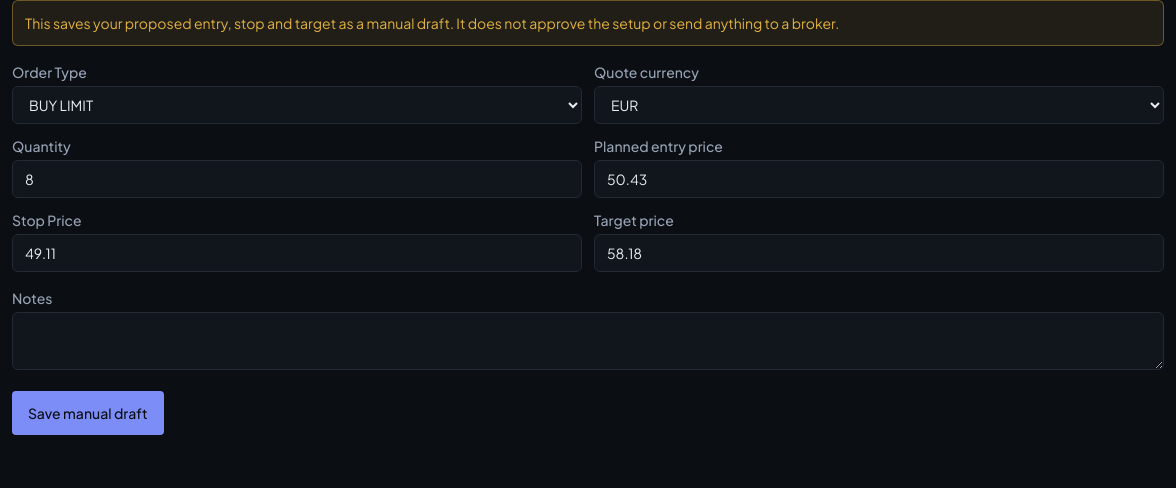
it: manual order drafts › saves the full plan as an unapproved draft and links to Book
The image size is (1176, 488).
Type "My manual plan" into the text box labelled "Notes" at (588, 341), box [12,312,1164,370]
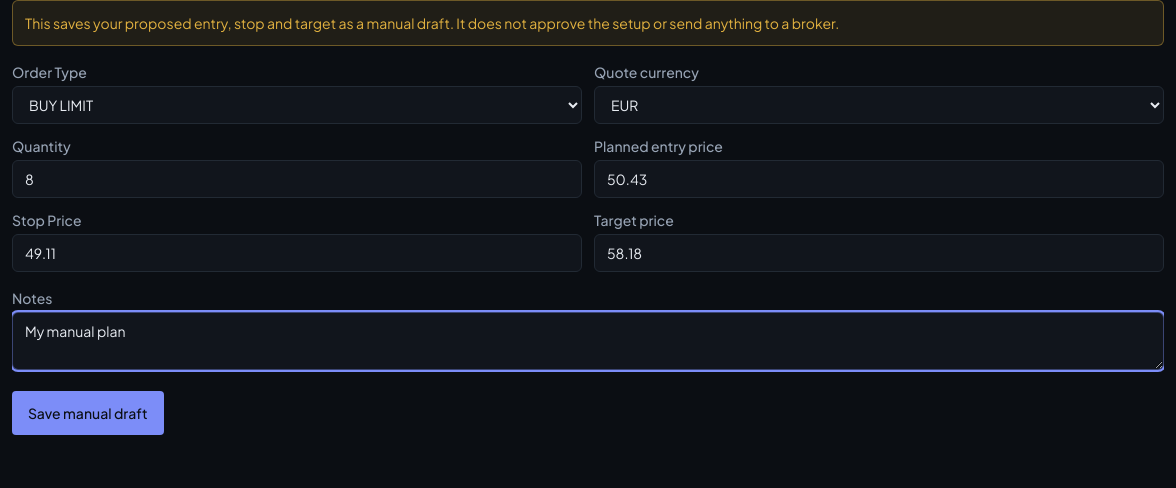
Click the button "Save manual draft" at (88, 413), box [12,391,164,435]
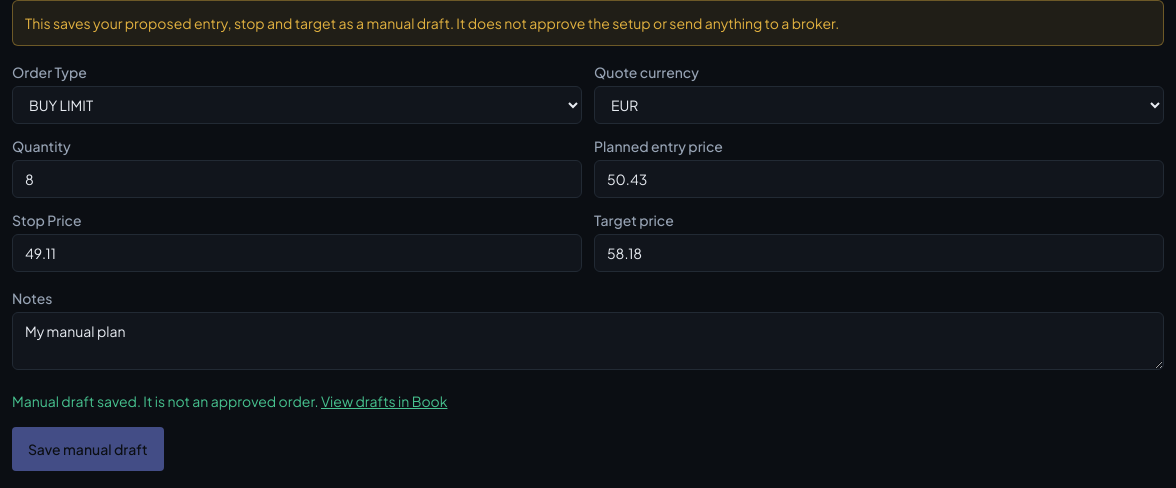
expect the message shows "Manual draft saved. It is not an approved order.": met, box [12,392,319,410]
